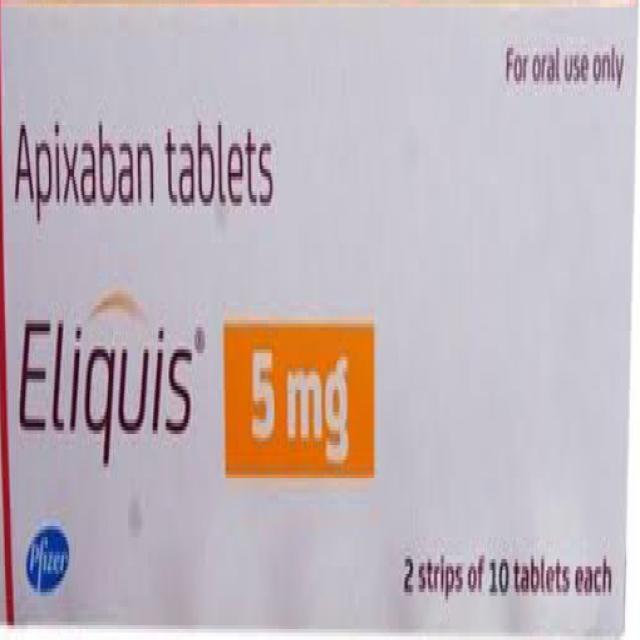drug-name: (15, 315, 194, 473)
